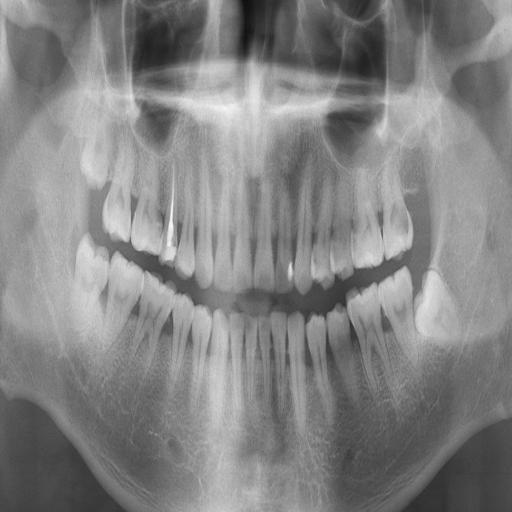Wisdom teeth: (415, 269, 460, 341), (75, 234, 107, 301), (82, 120, 111, 188)
